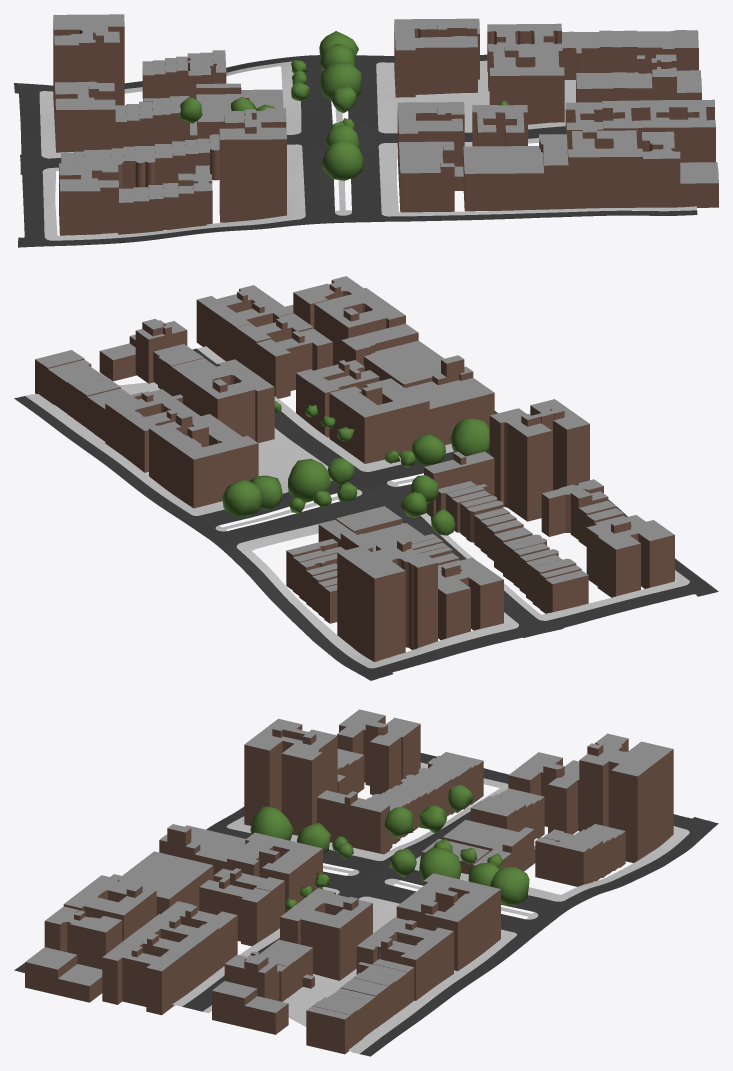
Rendered from broadway.glb.
3 renders of one model, top to bottom at view 1: azimuth 30°, elevation 25°; view 2: azimuth 150°, elevation 25°; view 3: azimuth 270°, elevation 25°, orthographic. The views are drawn at different scales.
Visible parts, largest first — view 1: bldgs-surround, streets, trees; view 2: bldgs-surround, streets, trees; view 3: bldgs-surround, streets, trees.
Part boxes in pixels (<box>): bldgs-surround: <box>53,14,718,235</box>; streets: <box>14,54,697,247</box>; trees: <box>178,31,509,180</box>; bldgs-surround: <box>35,276,674,661</box>; streets: <box>14,346,718,680</box>; trees: <box>222,401,489,535</box>; bldgs-surround: <box>25,709,673,1054</box>; streets: <box>14,753,718,1056</box>; trees: <box>250,785,529,909</box>.
Size of the model in its own units: 321 by 49.51 by 274.
